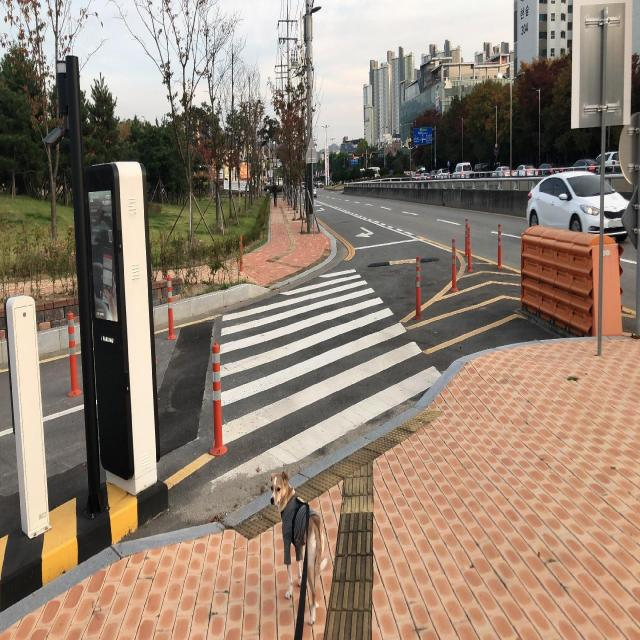횡단보도: (210, 266, 444, 496)
